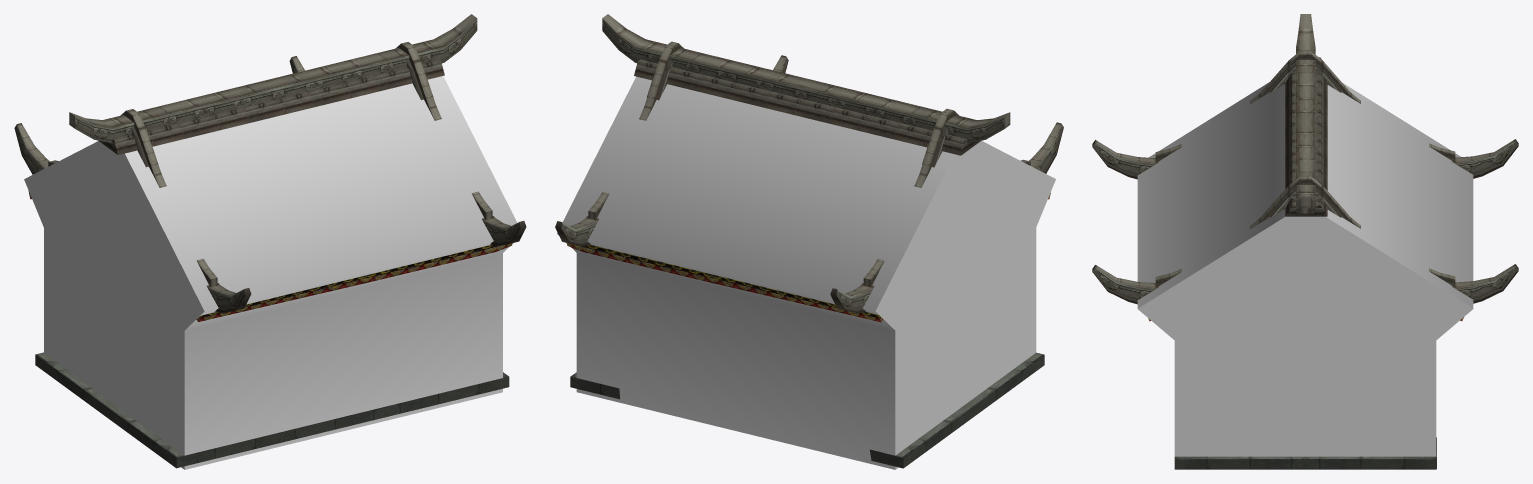
The model's file is YHJ_xiaowu.FBX.
The picture shows the model from 3 angles, left to right: view 1: azimuth 30°, elevation 25°; view 2: azimuth 150°, elevation 25°; view 3: azimuth 270°, elevation 25°; orthographic projection. The views are drawn at different scales.
Visible parts, largest first — view 1: YHJ_xiaowu-col, YHJ_xiaowu; view 2: YHJ_xiaowu-col, YHJ_xiaowu; view 3: YHJ_xiaowu-col, YHJ_xiaowu.
Boxes of the visible parts, x1,y1,x2,y2 form: YHJ_xiaowu-col: (24,76,517,469); YHJ_xiaowu: (14,14,526,468); YHJ_xiaowu-col: (557,76,1055,469); YHJ_xiaowu: (555,14,1063,468); YHJ_xiaowu-col: (1137,82,1473,469); YHJ_xiaowu: (1092,14,1518,469).
Size of the model in its own units: 14.75 by 11.02 by 14.57.
